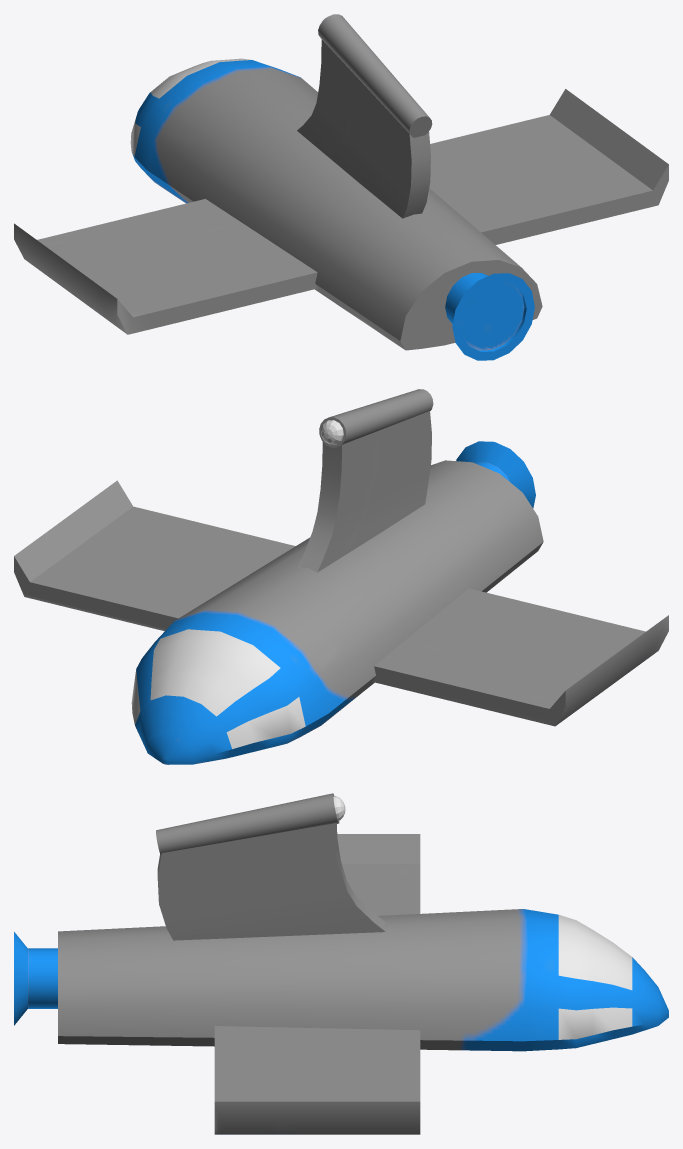
File: SharkShip.fbx
3 views of the same model, one above another, from view 1: azimuth 30°, elevation 25°; view 2: azimuth 150°, elevation 25°; view 3: azimuth 270°, elevation 25° (orthographic).
Visible parts, largest first — view 1: Shark; view 2: Shark; view 3: Shark.
Part boxes in pixels (x1,y1,x2,y2): Shark: (14, 14, 668, 360); Shark: (14, 389, 668, 764); Shark: (14, 793, 668, 1134).
Size of the model in its own units: 632 by 250 by 654.
